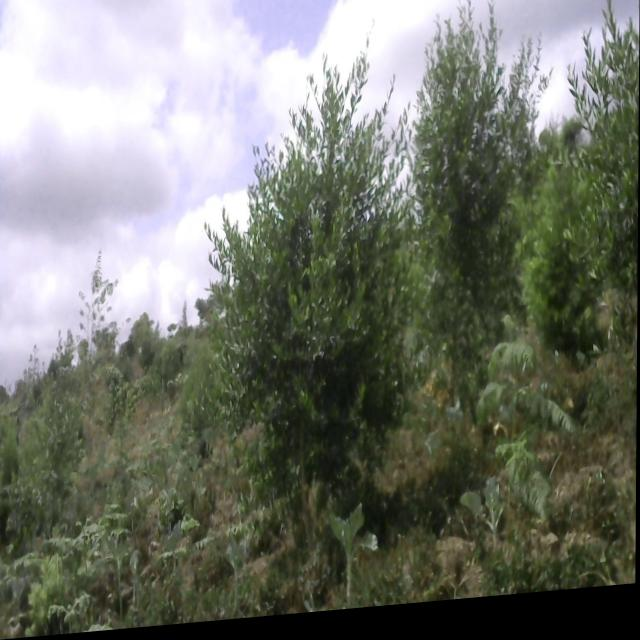Salix alba: (207, 41, 423, 548), (413, 19, 536, 367), (580, 50, 639, 318)
